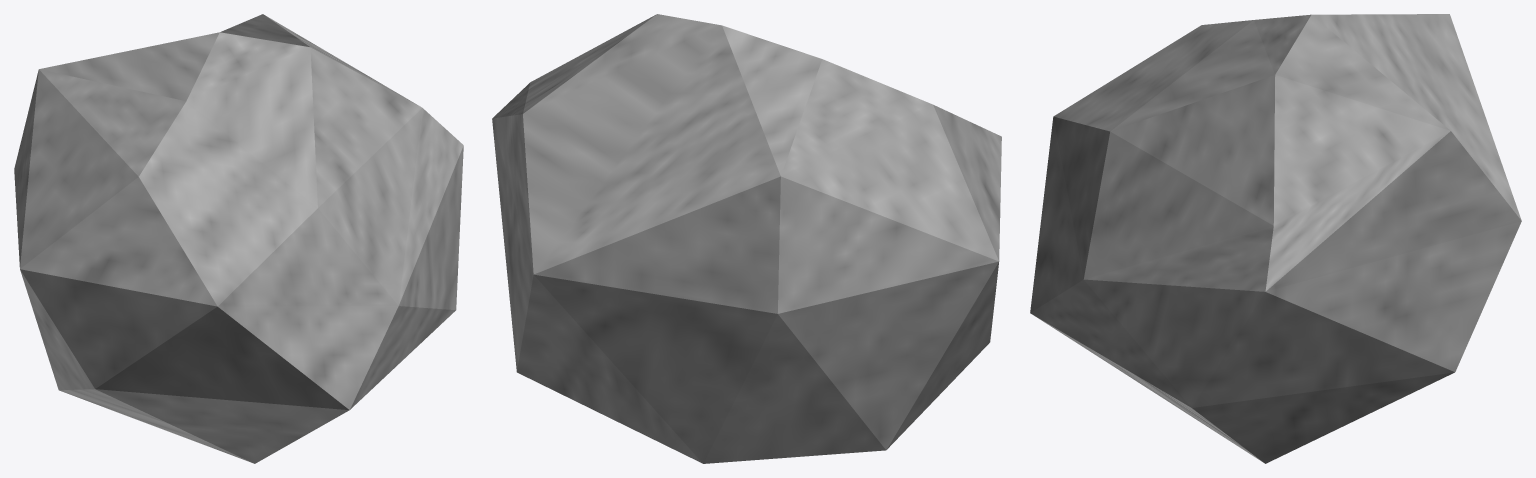
File: asbestos_1.glb
3 renders of one model, left to right at view 1: azimuth 30°, elevation 25°; view 2: azimuth 150°, elevation 25°; view 3: azimuth 270°, elevation 25°, orthographic. The views are drawn at different scales.
Parts seen in each view (by area): view 1: Asbestos3; view 2: Asbestos3; view 3: Asbestos3.
Boxes of the visible parts, box(x1,y1,x2,y2) form: Asbestos3: box(14, 14, 463, 463); Asbestos3: box(492, 14, 1001, 463); Asbestos3: box(1030, 14, 1521, 463).
Bounding box in the file's own units: 0.1449 × 0.1206 × 0.1305.
1 material, 1 textured.
